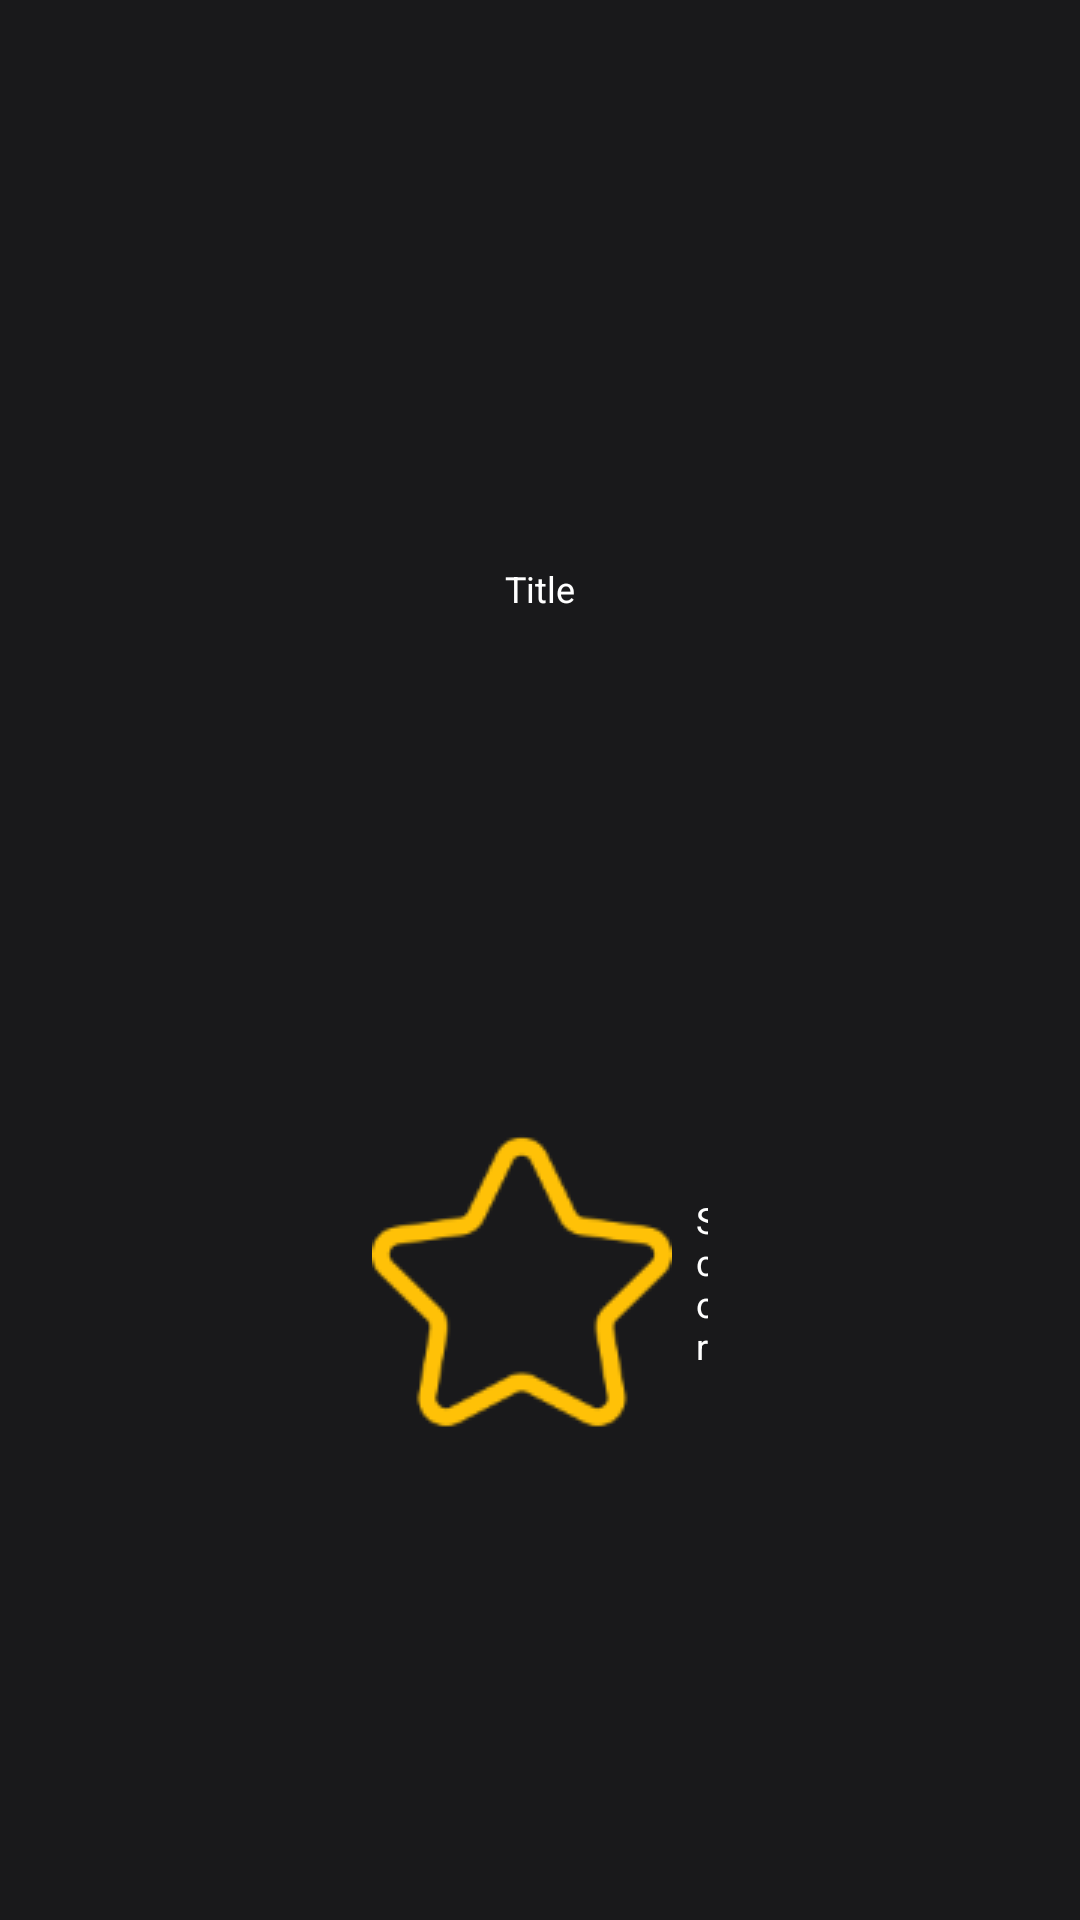

Icon bounding boxes for this 1080 x 1920 phone screenshot, format region(x1, y1, x2, y2):
star: region(372, 1137, 672, 1427)
